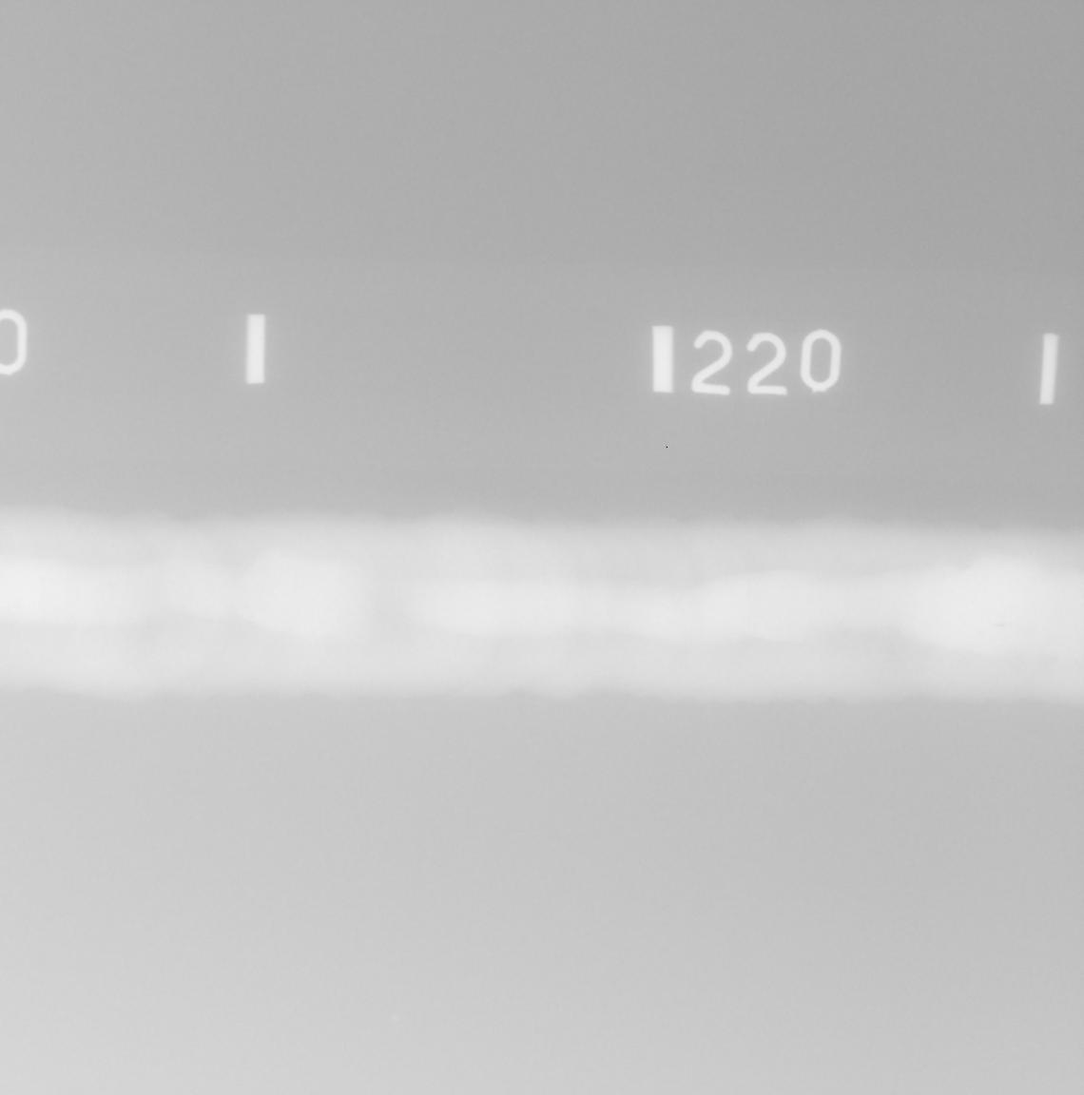Inclusion: (994, 624, 1005, 628), (563, 626, 568, 630)
Pore/Porosity: (106, 582, 115, 588), (325, 607, 330, 611), (978, 631, 981, 635), (941, 579, 945, 581)
